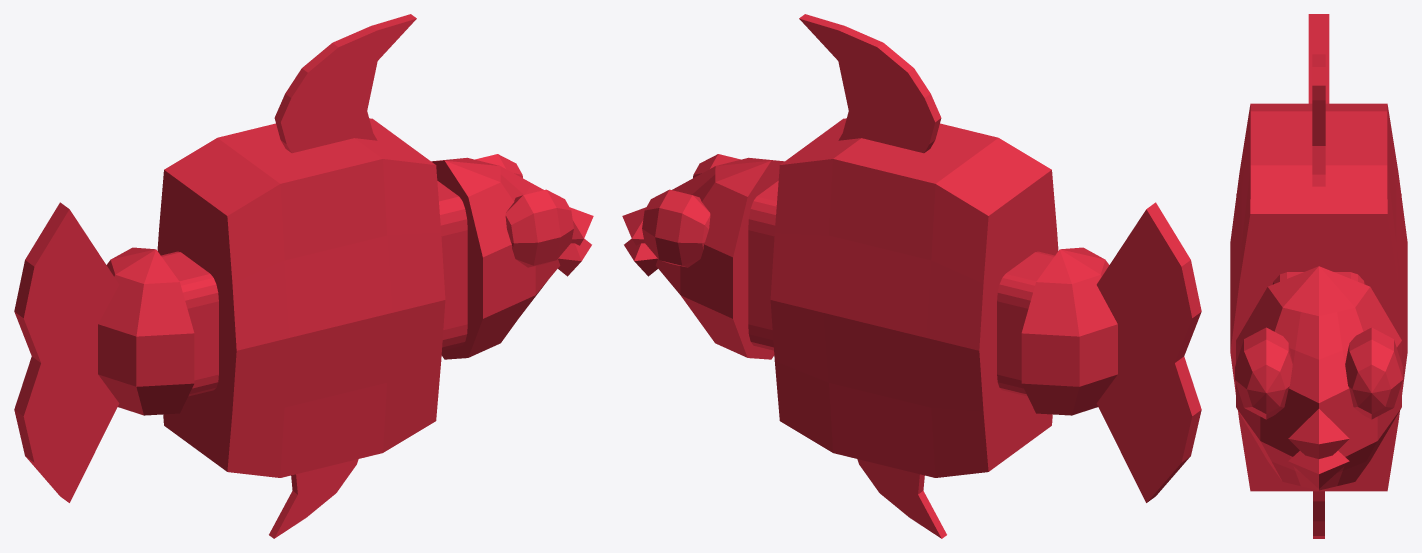
The model's file is blast-fish.glb.
3 renders of one model, left to right at view 1: azimuth 30°, elevation 25°; view 2: azimuth 150°, elevation 25°; view 3: azimuth 270°, elevation 25°, orthographic. The views are drawn at different scales.
Visible parts, largest first — view 1: Cube; view 2: Cube; view 3: Cube.
Boxes of the visible parts, x1,y1,x2,y2 form: Cube: (14, 14, 593, 538); Cube: (622, 14, 1201, 538); Cube: (1230, 14, 1407, 538).
Size of the model in its own units: 4.09 by 3.3 by 1.01.
